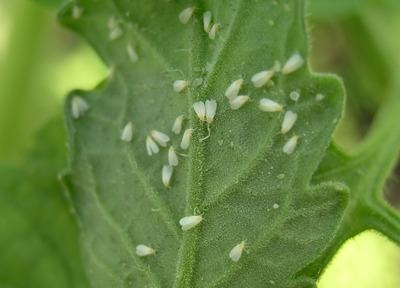whitefly: (179, 212, 207, 230), (251, 68, 276, 87), (224, 77, 245, 99), (281, 110, 299, 135), (178, 4, 199, 25), (229, 241, 249, 262), (283, 132, 301, 154), (229, 93, 251, 111), (259, 97, 284, 112), (150, 129, 170, 147), (193, 100, 207, 124), (205, 99, 218, 124), (180, 128, 194, 150), (172, 113, 186, 135), (145, 135, 159, 156), (162, 165, 174, 188), (136, 243, 157, 256), (172, 79, 193, 92), (167, 145, 179, 167)
